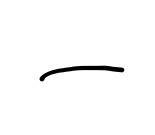minus: (40, 65, 124, 82)
